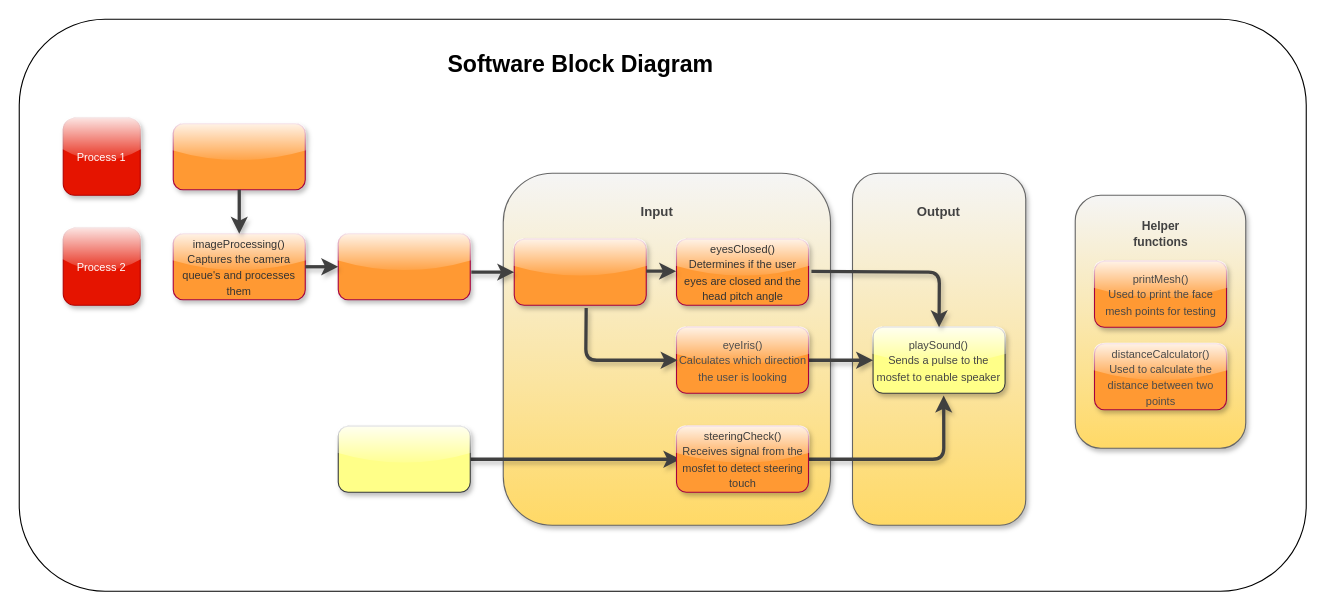
Some shapes in this 1326 by 611 pixel diagram are drawn without their labels. The shapes that lost their labels are listed below. From the top down, each one's centre as x and y in pixels, then its label:
At [240,157]: "cameraCapture() Used to capture camera frames".
At [405,267]: "getFacemeshCoords() Captures the facial landmarks".
At [581,273]: "faceInCenter()".
At [405,460]: "Steering circuit".
